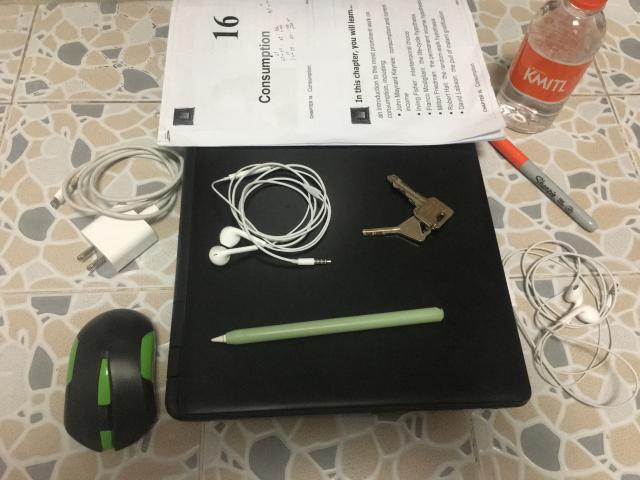Keys: (362, 175, 452, 243)
Mouse: (64, 309, 156, 451)
Pen: (491, 139, 598, 231)
bottle: (498, 0, 606, 134)
paper: (158, 0, 505, 146)
wire: (504, 240, 640, 409), (51, 144, 184, 271), (209, 162, 331, 265)
